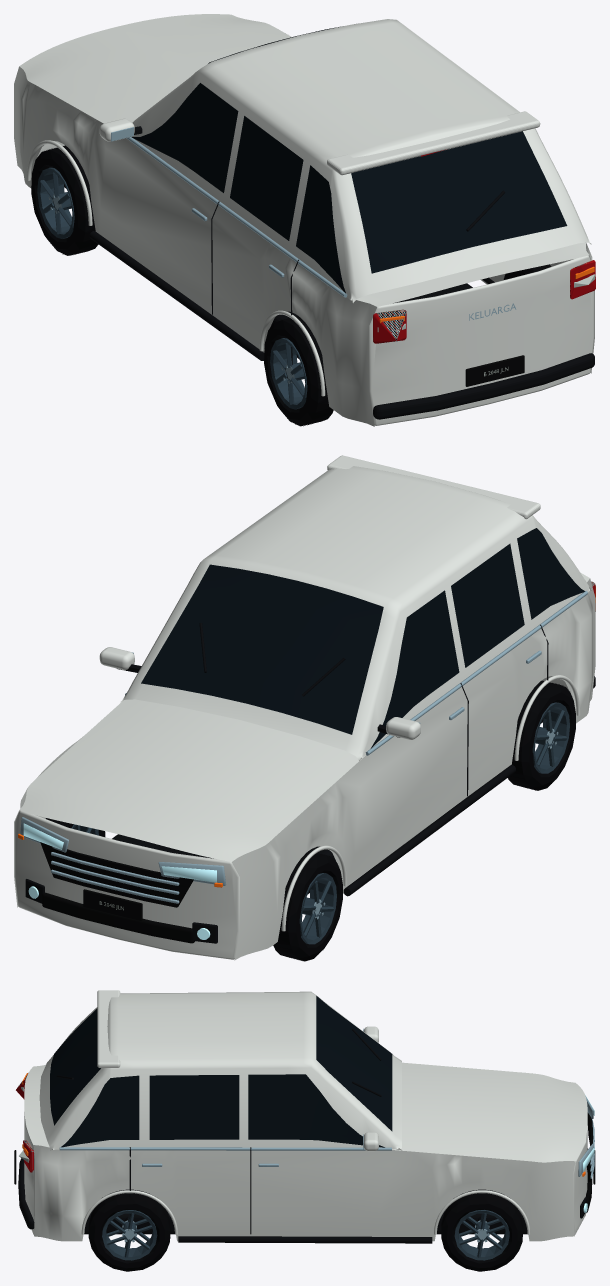
File: Body_LOD1.fbx
The picture shows the model from 3 angles, top to bottom: view 1: azimuth 30°, elevation 25°; view 2: azimuth 150°, elevation 25°; view 3: azimuth 270°, elevation 25°; orthographic projection. The views are drawn at different scales.
Visible parts, largest first — view 1: Body_Mesh, Wheel_RL_Mesh, Wheel_FL_Mesh, TailLights_Mesh; view 2: Body_Mesh, Wheel_FL_Mesh, Wheel_RL_Mesh, Headlights_Mesh; view 3: Body_Mesh, Wheel_FR_Mesh, Wheel_RR_Mesh, Headlights_Mesh, TailLights_Mesh.
Boxes of the visible parts, <box> form: Body_Mesh: <box>14,14,594,426</box>; Wheel_RL_Mesh: <box>264,316,333,426</box>; Wheel_FL_Mesh: <box>31,145,98,255</box>; TailLights_Mesh: <box>373,149,595,343</box>; Body_Mesh: <box>14,455,595,960</box>; Wheel_FL_Mesh: <box>273,851,342,961</box>; Wheel_RL_Mesh: <box>508,680,575,790</box>; Headlights_Mesh: <box>20,817,225,939</box>; Body_Mesh: <box>14,990,595,1243</box>; Wheel_FR_Mesh: <box>441,1193,523,1271</box>; Wheel_RR_Mesh: <box>88,1190,170,1271</box>; Headlights_Mesh: <box>578,1095,594,1212</box>; TailLights_Mesh: <box>16,1074,33,1172</box>.
Bounding box in the file's own units: 215 × 175 × 454.
